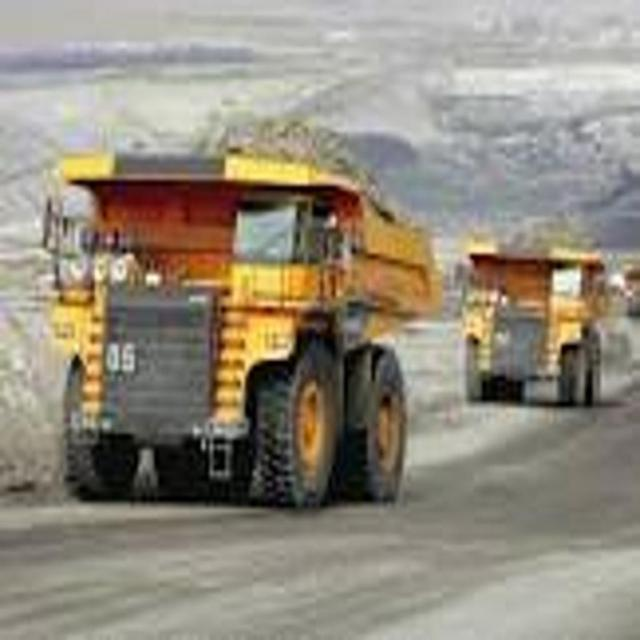dump_truck: (42, 121, 434, 508), (452, 210, 612, 423)
